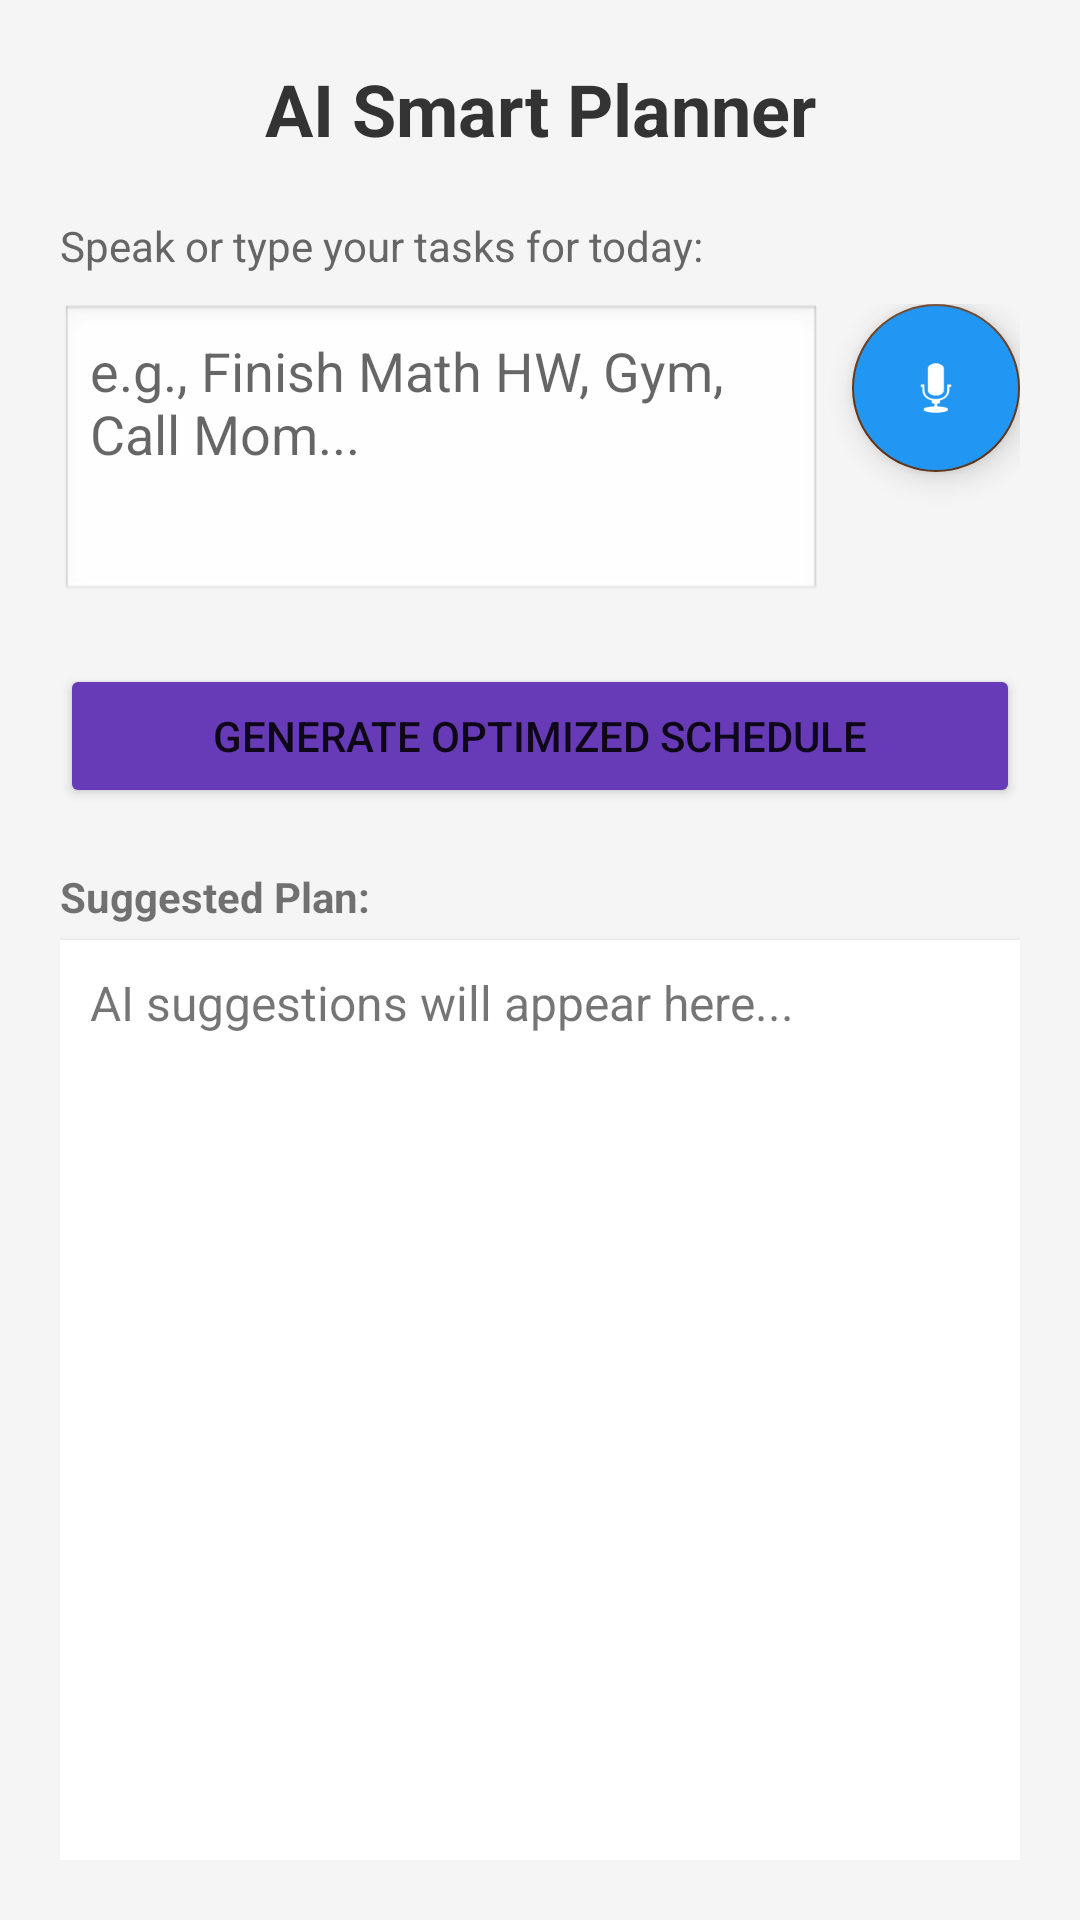

Locate icon controls on the screen. Image size 1080*1920, boxes as (x1, y1, x2, y2).
Voice Input: (852, 304, 1020, 472)
